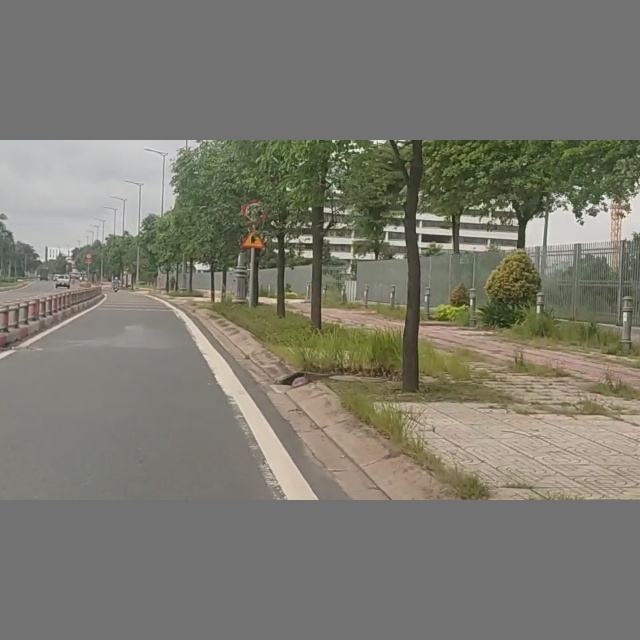W.207: (239, 229, 267, 248)
